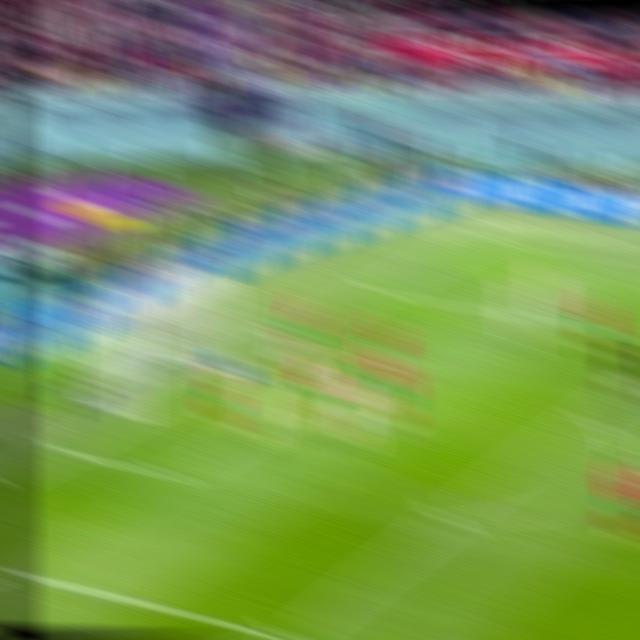bigarea_bottom_inner: (265, 612, 316, 640)
bigarea_top_outter: (360, 276, 397, 304)
bottom_arc_area_intersection: (428, 496, 472, 539)
corner: (467, 225, 506, 249)
smallarea_bottom_inner: (154, 455, 198, 494)
smallarea_bottom_outter: (42, 433, 84, 469)
smallarea_top_outter: (261, 324, 297, 354)
top_arc_area_intersection: (571, 400, 608, 431)
